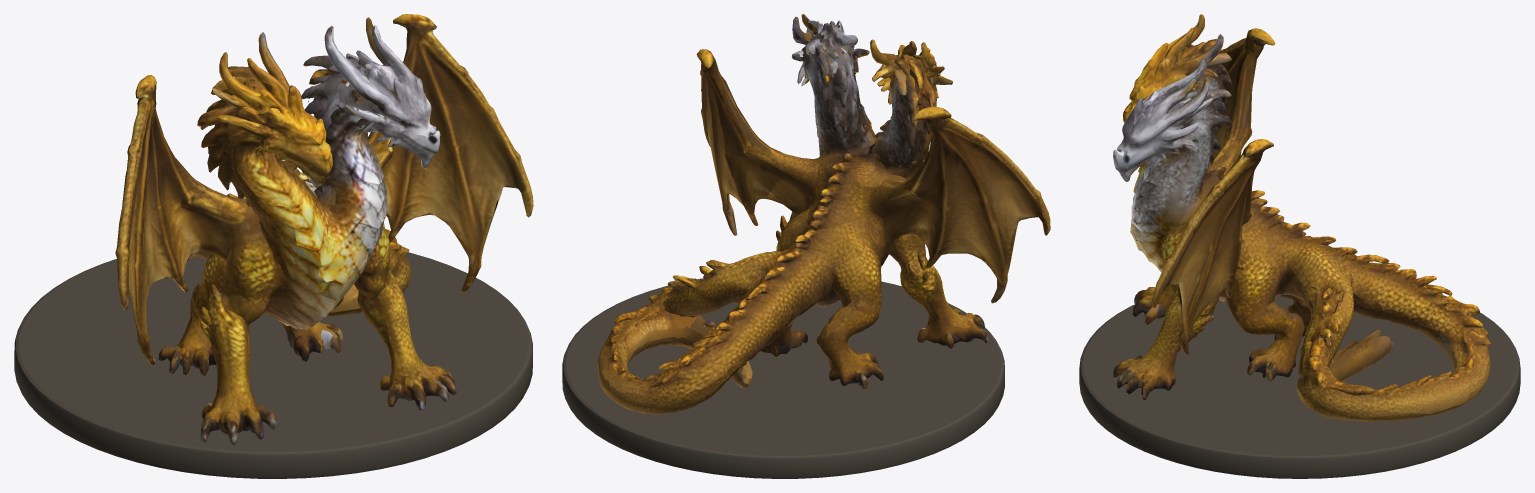
Rendered from two-headed-dragon.glb.
3 renders of one model, left to right at view 1: azimuth 30°, elevation 25°; view 2: azimuth 150°, elevation 25°; view 3: azimuth 270°, elevation 25°, orthographic. The views are drawn at different scales.
Visible parts, largest first — view 1: two-headed-dragon_body, two-headed-dragon_round_base; view 2: two-headed-dragon_body, two-headed-dragon_round_base; view 3: two-headed-dragon_body, two-headed-dragon_round_base.
Boxes of the visible parts, box(x1,y1,x2,y2) form: two-headed-dragon_body: box(115, 14, 533, 444); two-headed-dragon_round_base: box(14, 252, 532, 478); two-headed-dragon_body: box(597, 14, 1050, 414); two-headed-dragon_round_base: box(562, 278, 1004, 478); two-headed-dragon_body: box(1113, 14, 1491, 421); two-headed-dragon_round_base: box(1079, 295, 1520, 478).
Bounding box in the file's own units: 0.9781 × 0.791 × 0.96.
2 materials, 1 textured.
